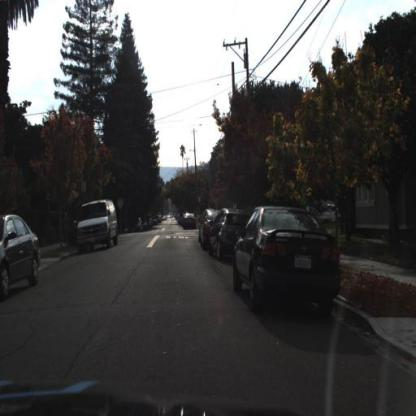car: (232, 202, 346, 315), (207, 200, 260, 269), (1, 213, 43, 298), (75, 192, 121, 259), (77, 198, 118, 253), (208, 210, 252, 261), (203, 210, 217, 252), (181, 209, 201, 238), (184, 212, 198, 230), (132, 217, 145, 233)
